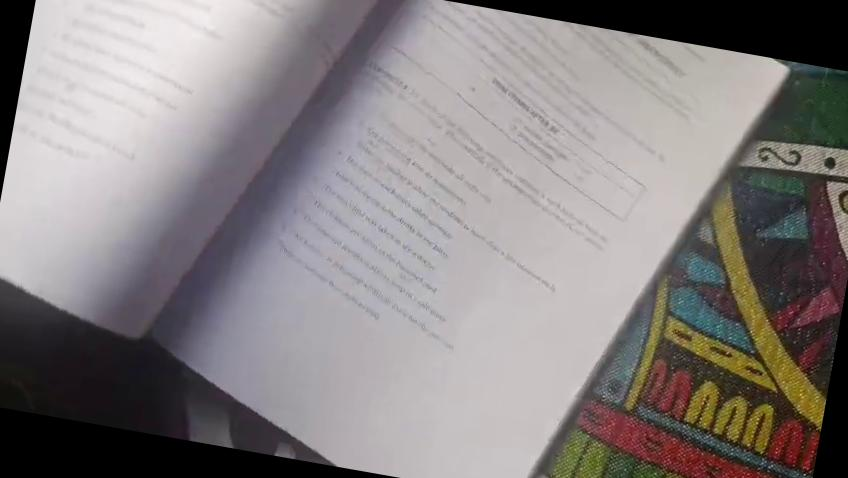Kertas: (0, 0, 787, 478)
